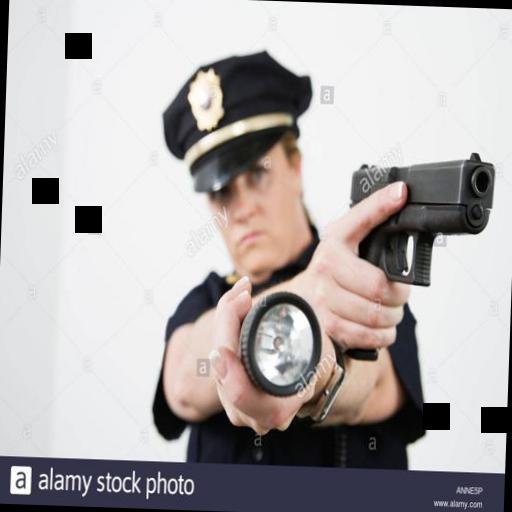Handgun: (342, 144, 494, 363)
